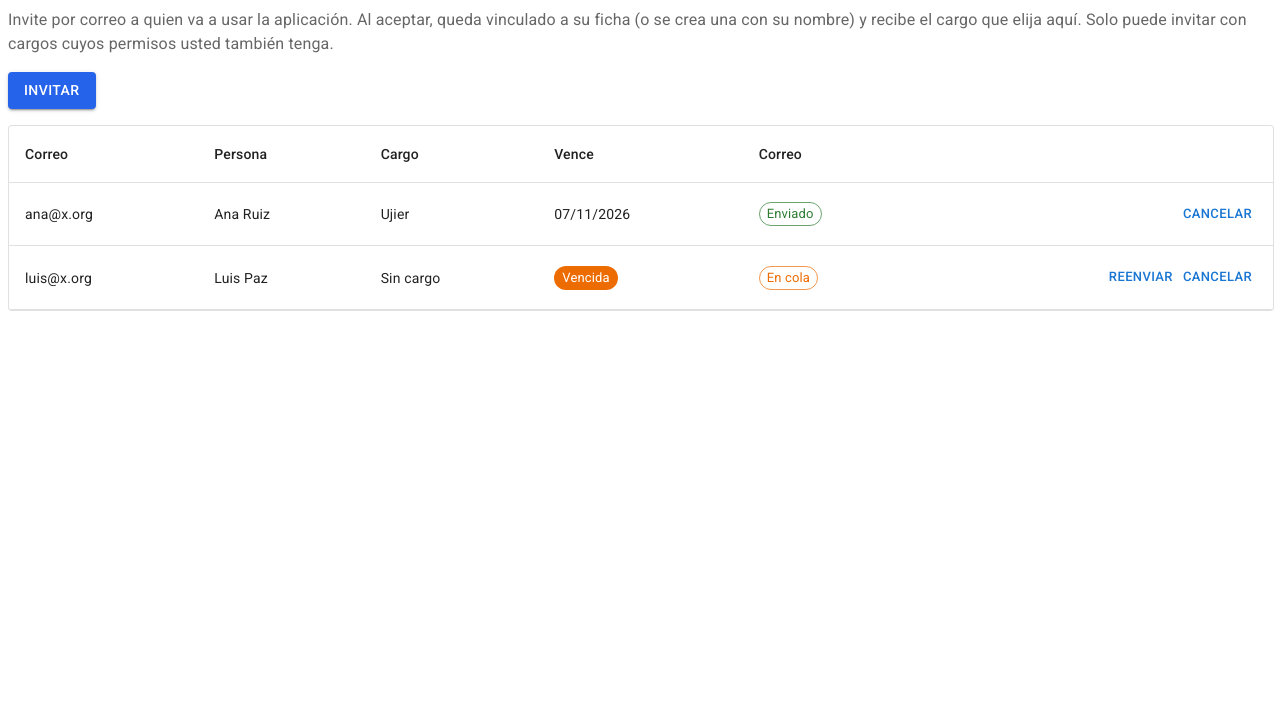
Test case: InvitationsPanel › explains what is missing instead of sending
Click the button "Invitar": (52, 90) [8, 72, 96, 108]
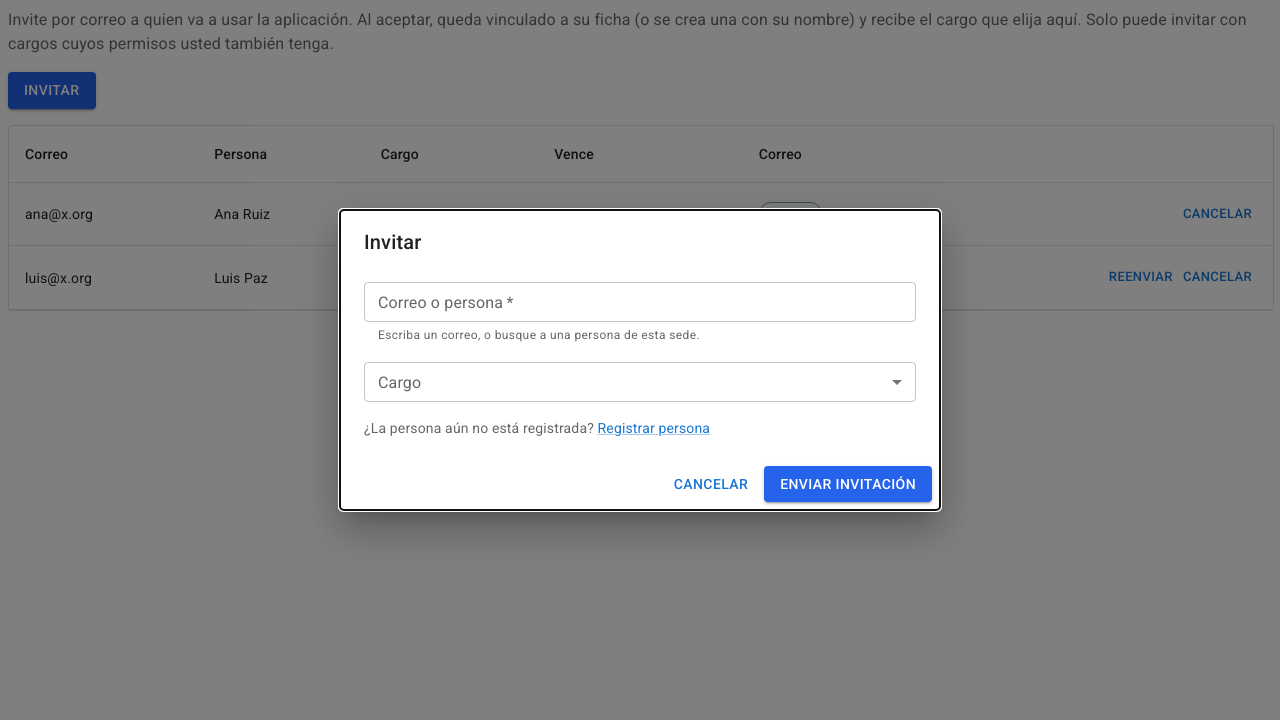
In the dropdown labelled "Correo o persona *": (638, 302) [370, 288, 907, 316], type "beto"
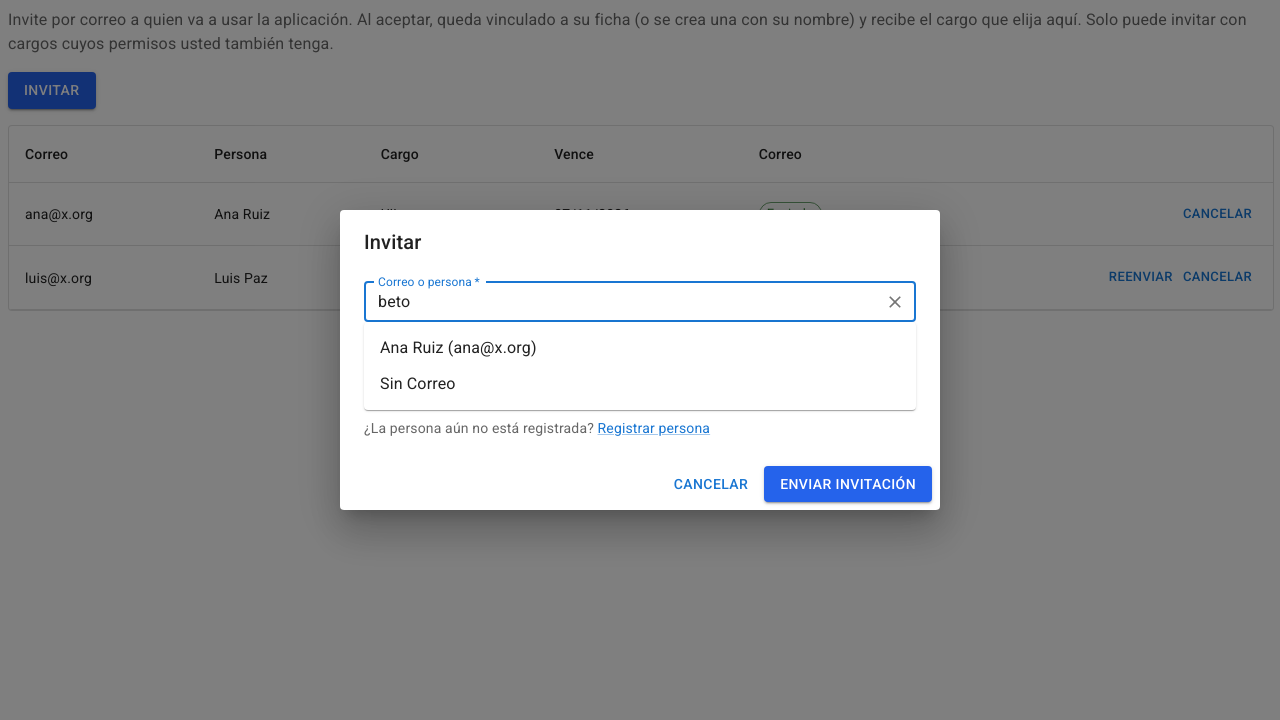
Click the button "Enviar invitación": (848, 484) [764, 466, 932, 502]
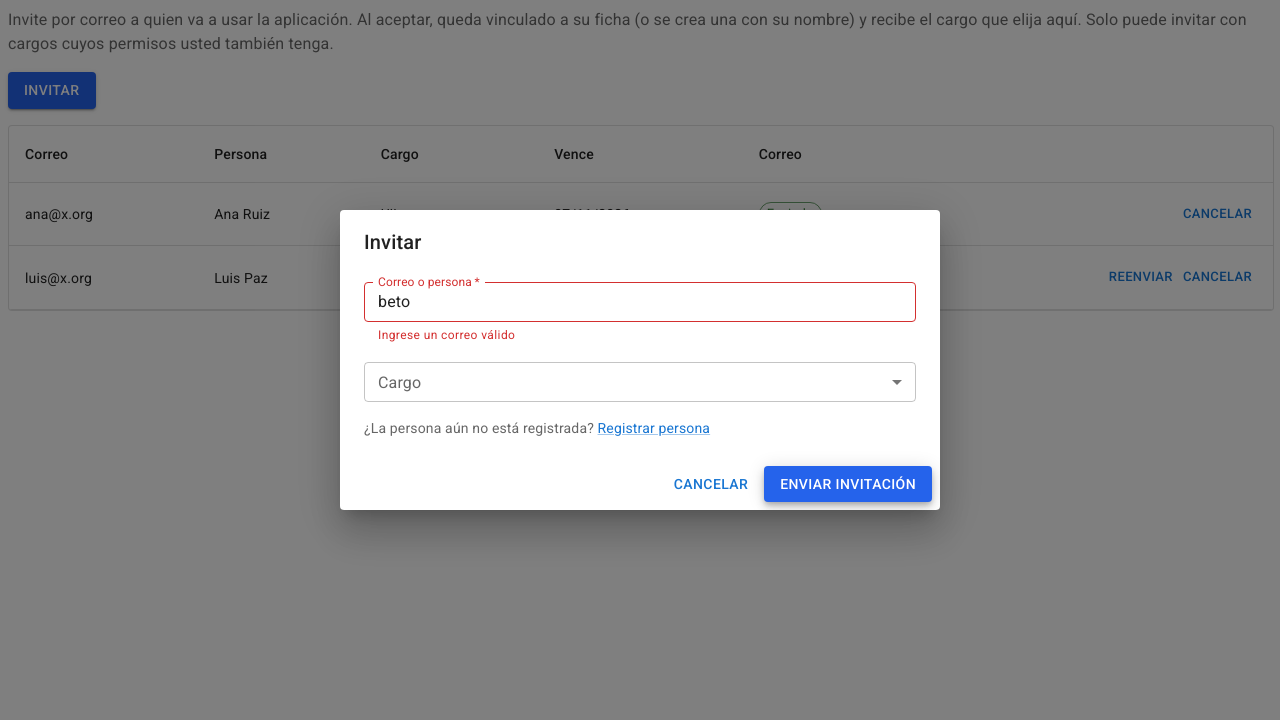
Expected: the text "Ingrese un correo válido" is shown, [378, 328, 515, 342]
